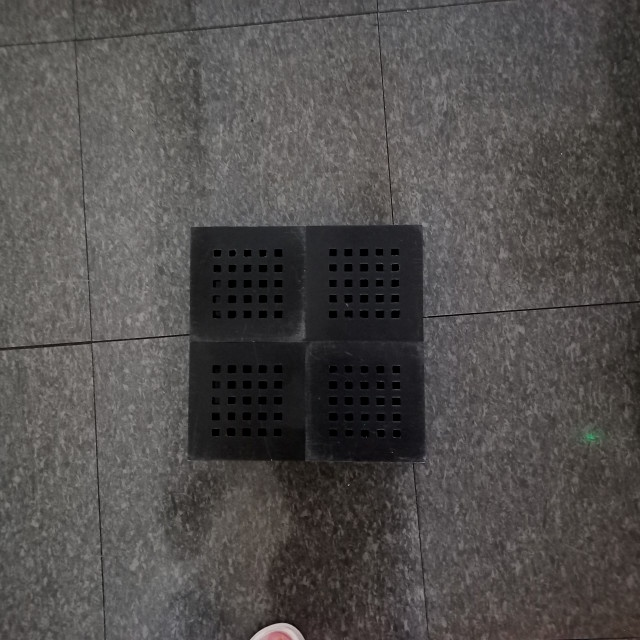pallet: (185, 221, 429, 469)
